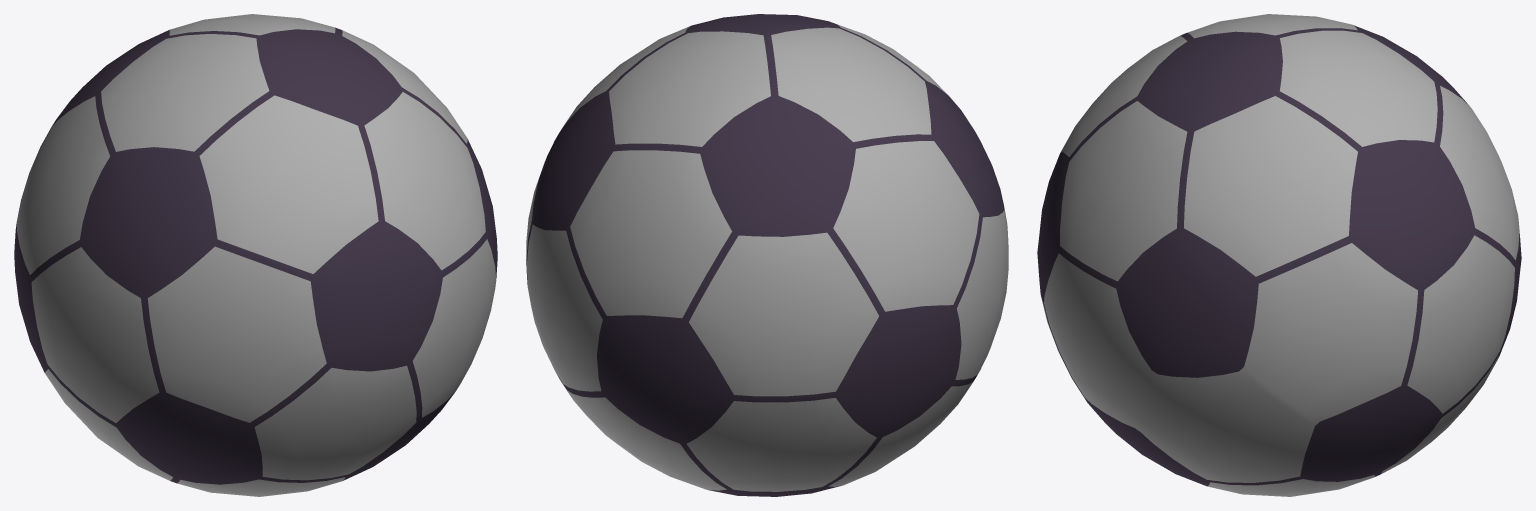
Rendered from Soccerball.fbx.
3 views of the same model, side by side, from view 1: azimuth 30°, elevation 25°; view 2: azimuth 150°, elevation 25°; view 3: azimuth 270°, elevation 25° (orthographic).
Parts seen in each view (by area): view 1: Soccerball; view 2: Soccerball; view 3: Soccerball.
Boxes of the visible parts, x1,y1,x2,y2 form: Soccerball: (14,14,497,496); Soccerball: (526,14,1008,496); Soccerball: (1037,14,1521,496).
Bounding box in the file's own units: 92.54 × 92.53 × 92.65.
